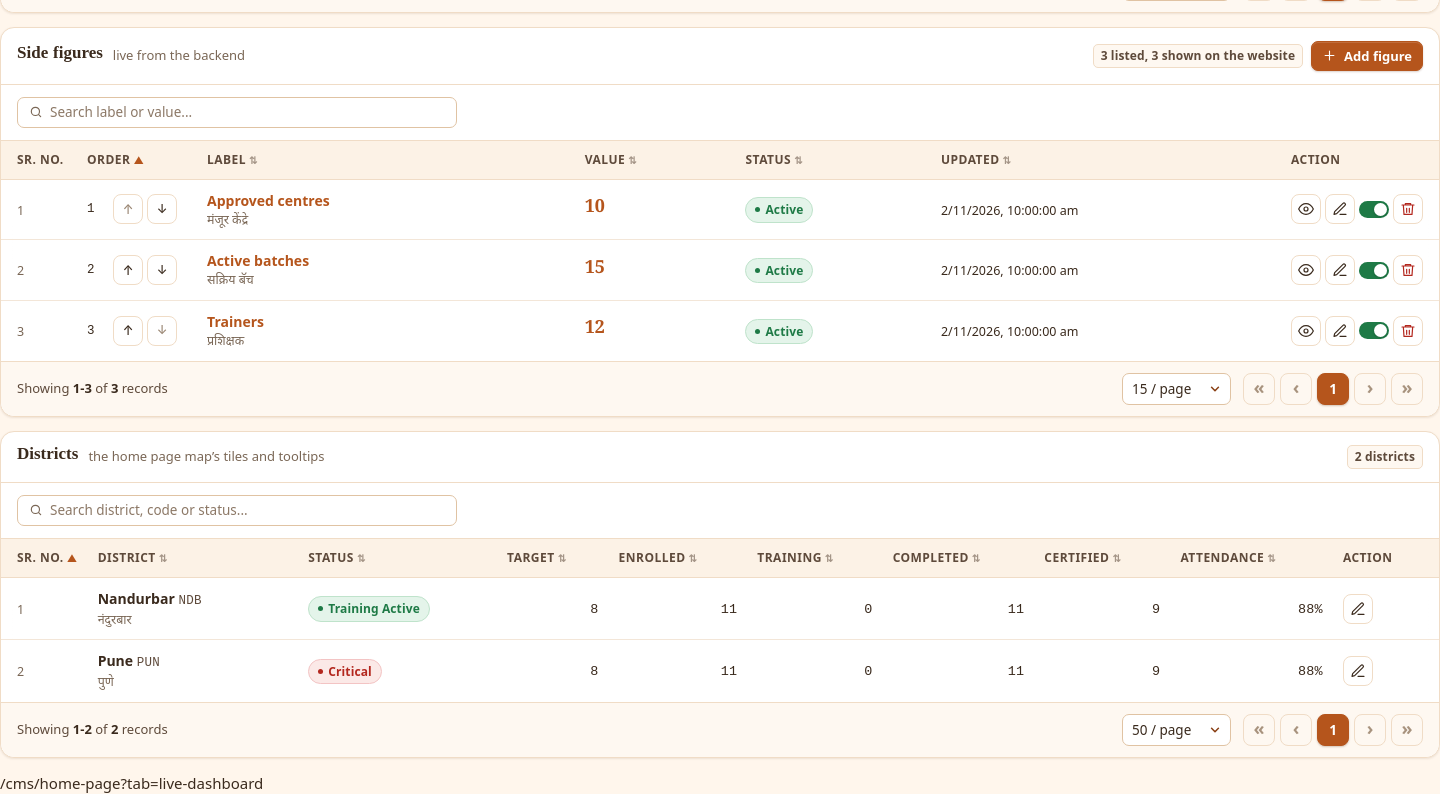
it: a district’s Edit dialog › stays open with what was typed when the save is refused as stale
(page scrolled)
Expected: the text "Pune" is shown, [98,651,133,670]
Click the button named "Edit Pune": [1358, 671] box [1343,656,1373,686]
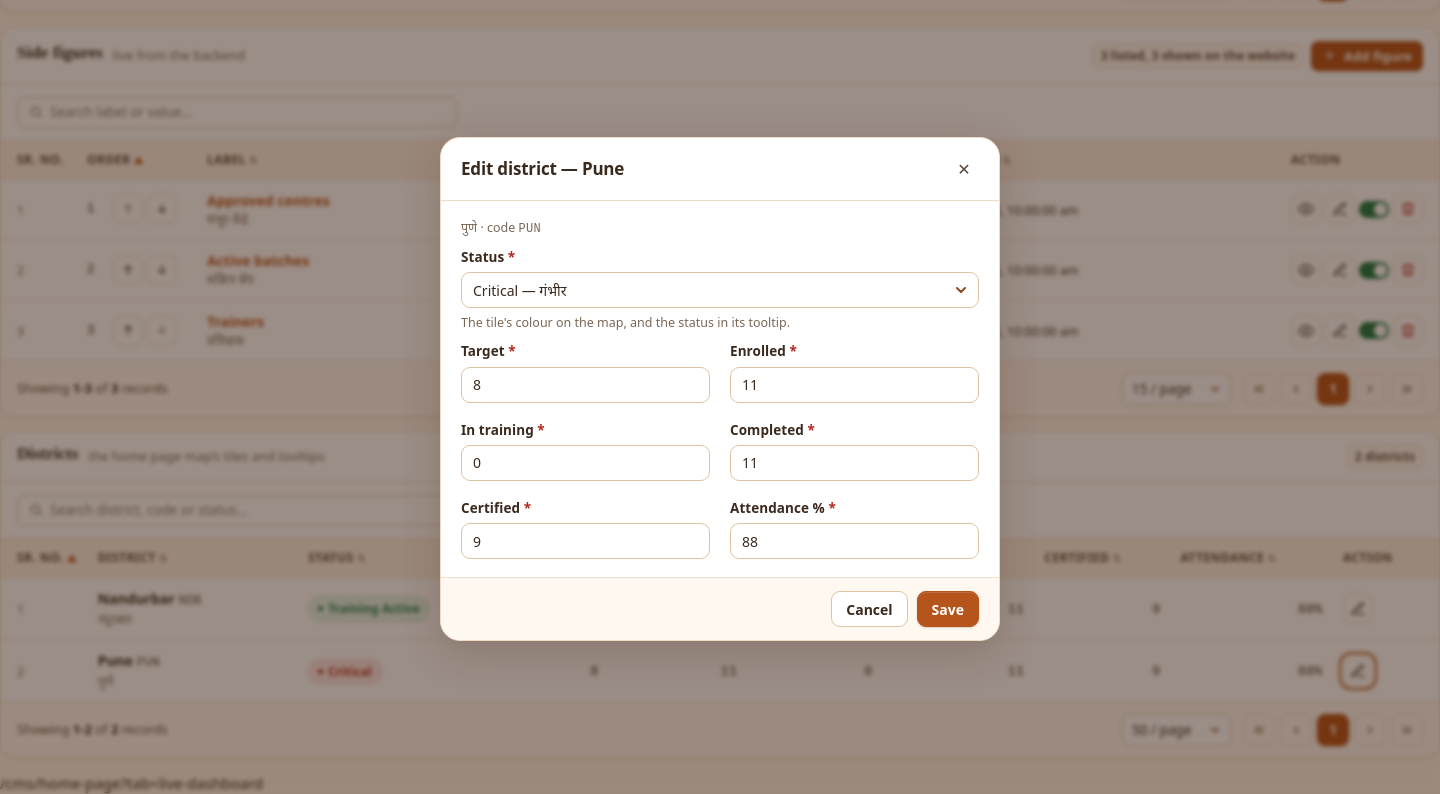
Replace the text in the number field labelled "Target *" with "50": [586, 385] box [461,367,710,403]
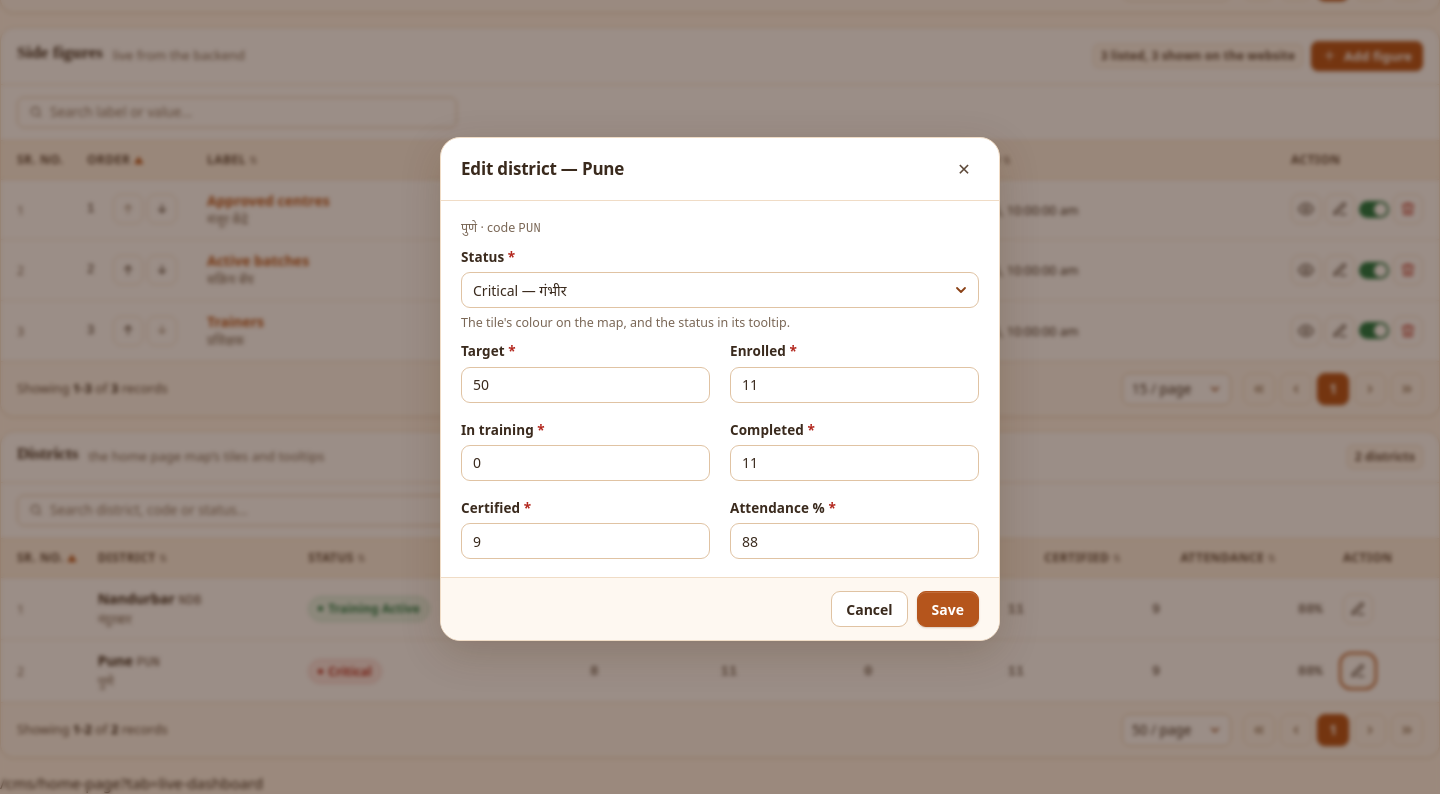
Click the button "Save": [948, 609] box [917,591,979,627]
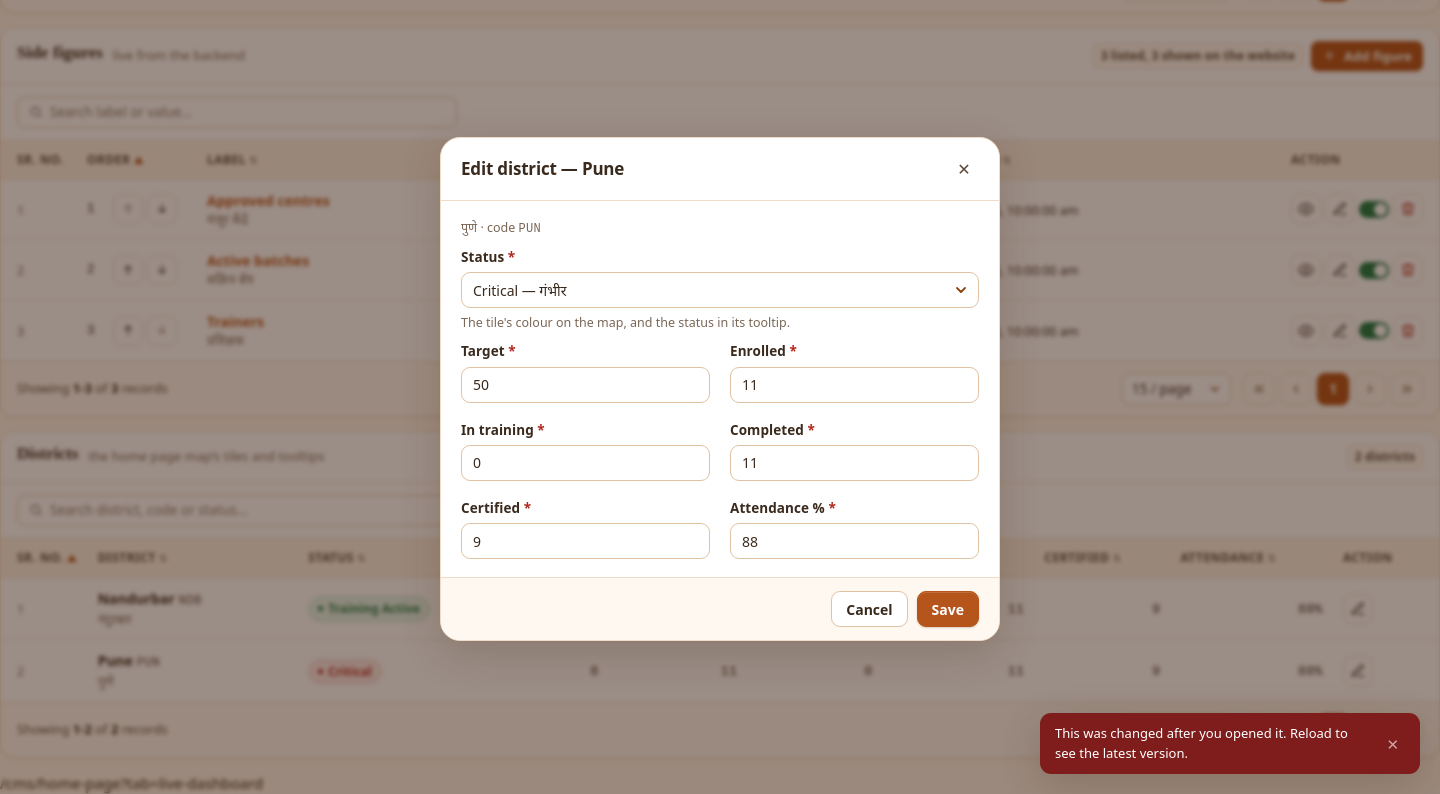
Result: the element with id "toast-root" shows "This was changed after you opened it" at [1055,724,1348,762]
